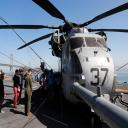helicopter: (17, 7, 121, 113)
